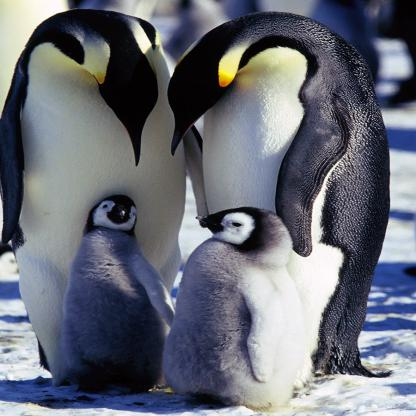Penguin: (166, 6, 404, 395), (0, 8, 197, 376), (40, 178, 191, 390), (176, 199, 322, 409)
